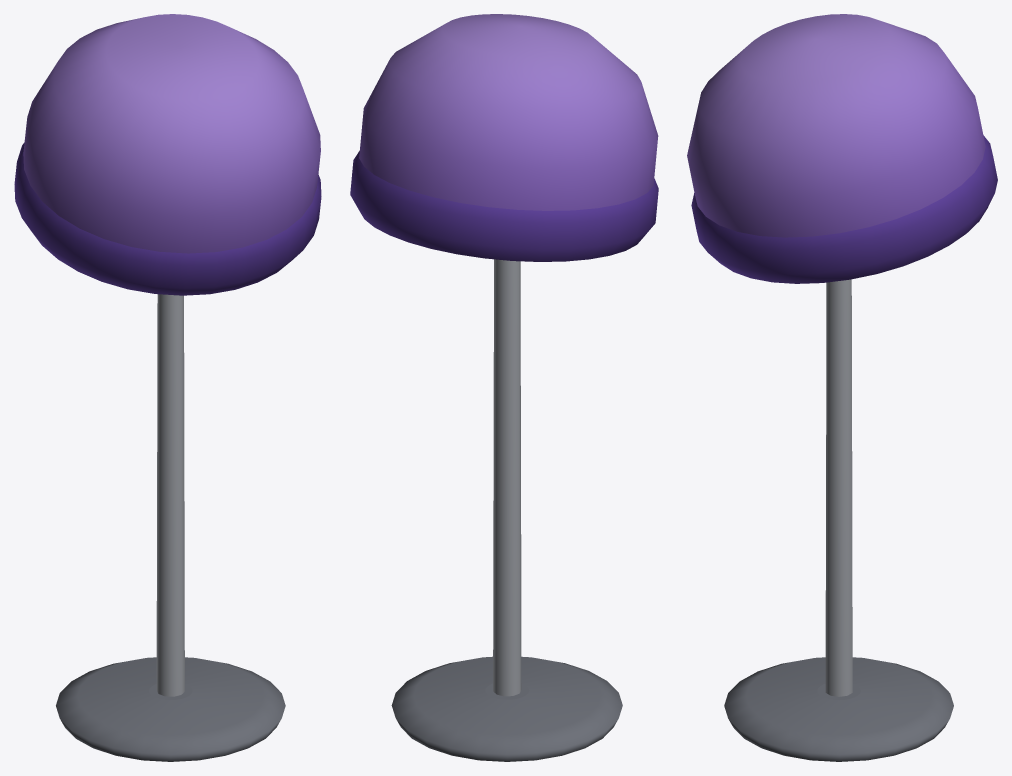
Rendered from furn_salon_dryer.glb.
3 renders of one model, left to right at view 1: azimuth 30°, elevation 25°; view 2: azimuth 150°, elevation 25°; view 3: azimuth 270°, elevation 25°, orthographic.
Parts seen in each view (by area): view 1: furn_salon_dryer_main; view 2: furn_salon_dryer_main; view 3: furn_salon_dryer_main.
Part boxes in pixels (x1,y1,x2,y2): furn_salon_dryer_main: (14,14,321,761); furn_salon_dryer_main: (350,14,658,761); furn_salon_dryer_main: (687,14,997,761).
Bounding box in the file's own units: 0.56 × 1.37 × 0.568.
